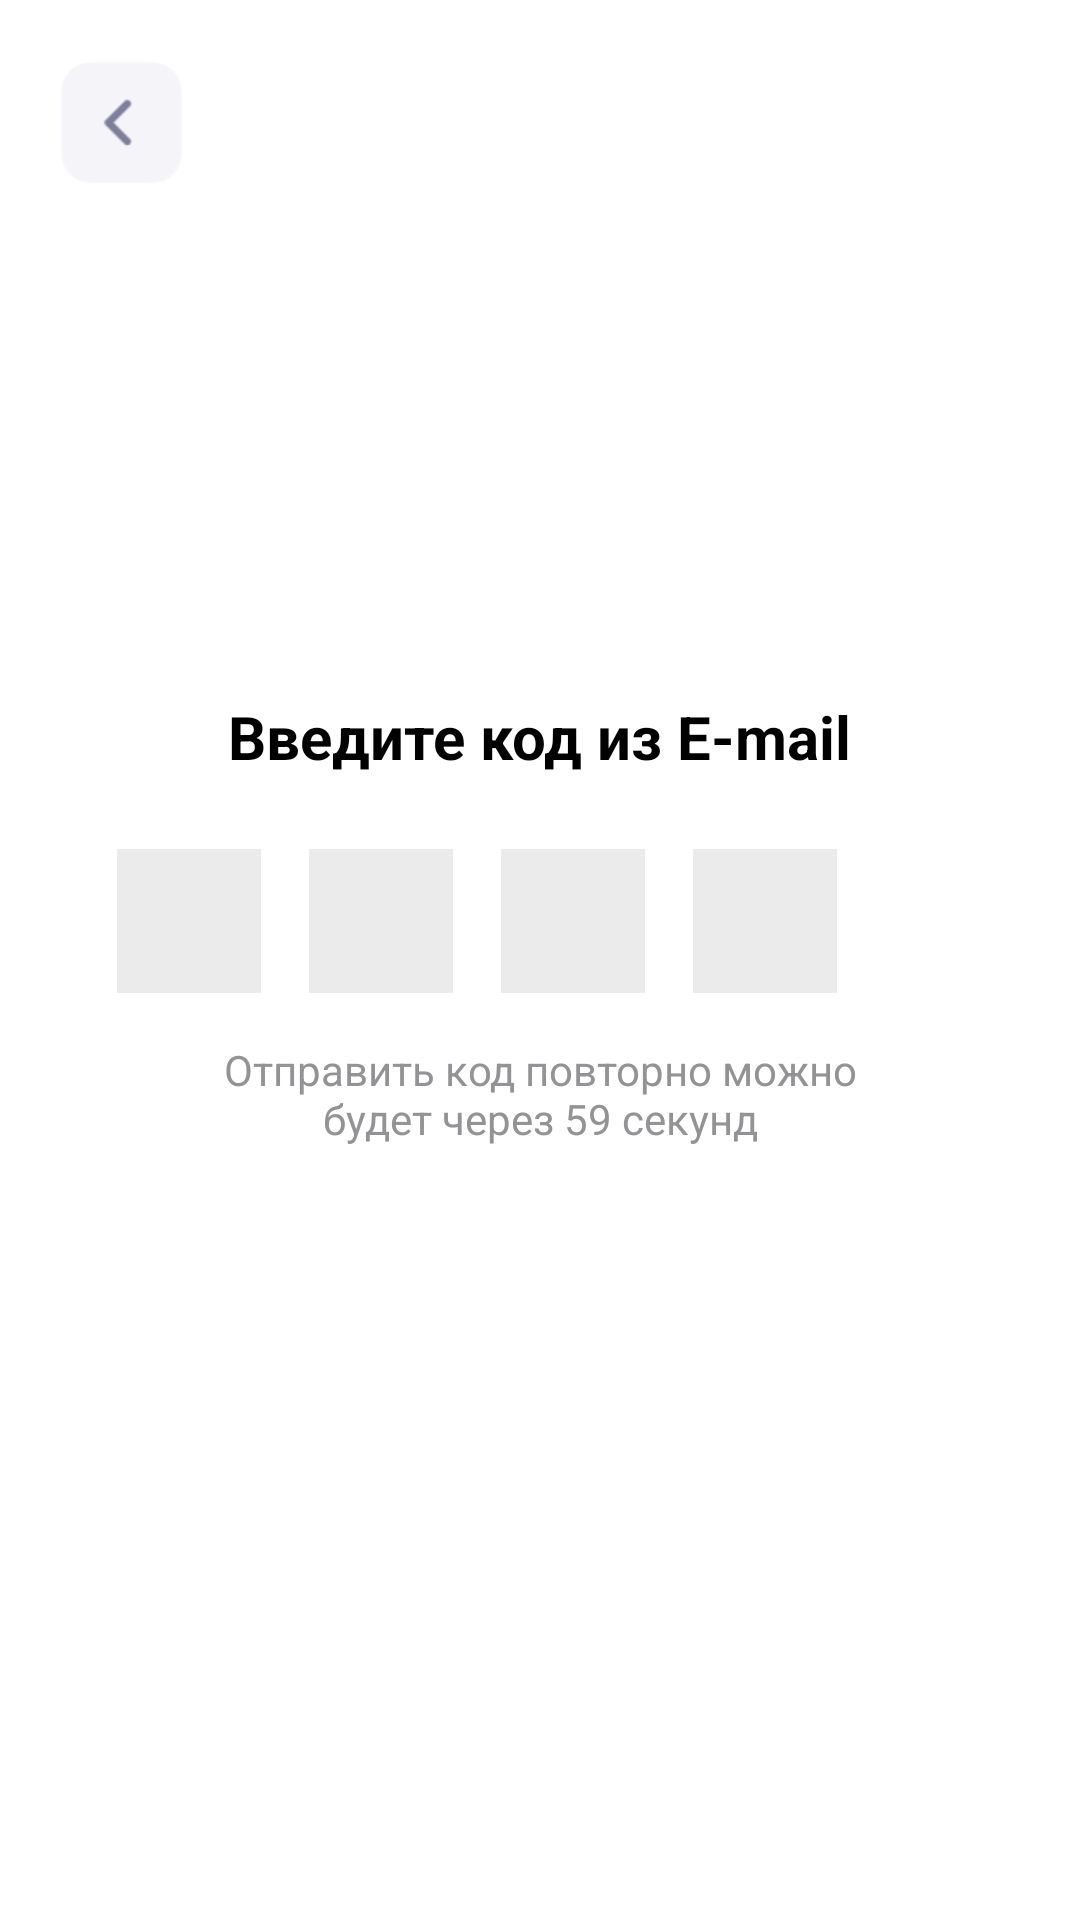

Where icons sit on this 1080*1920 app screen, as (x1, y1, x2, y2):
nazad: (62, 63, 181, 183)
